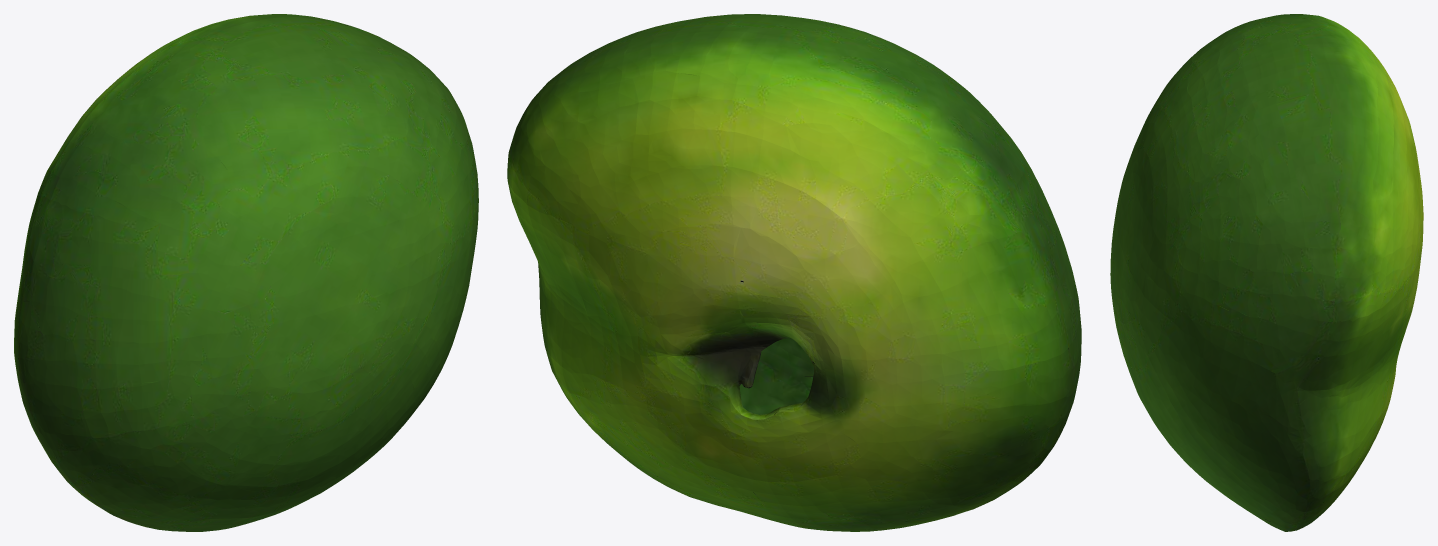
The model's file is small_green_apple_in_the_center_foreground_000.glb.
3 views of the same model, side by side, from view 1: azimuth 30°, elevation 25°; view 2: azimuth 150°, elevation 25°; view 3: azimuth 270°, elevation 25° (orthographic). The views are drawn at different scales.
Parts seen in each view (by area): view 1: small_green_apple_in_the_center_foreground_000.obj; view 2: small_green_apple_in_the_center_foreground_000.obj; view 3: small_green_apple_in_the_center_foreground_000.obj.
Part boxes in pixels (bbox=[...]): small_green_apple_in_the_center_foreground_000.obj: bbox=[14, 14, 478, 531]; small_green_apple_in_the_center_foreground_000.obj: bbox=[507, 14, 1081, 531]; small_green_apple_in_the_center_foreground_000.obj: bbox=[1110, 14, 1423, 531].
Size of the model in its own units: 0.1414 by 0.1327 by 0.0823.
1 material, 1 textured.
